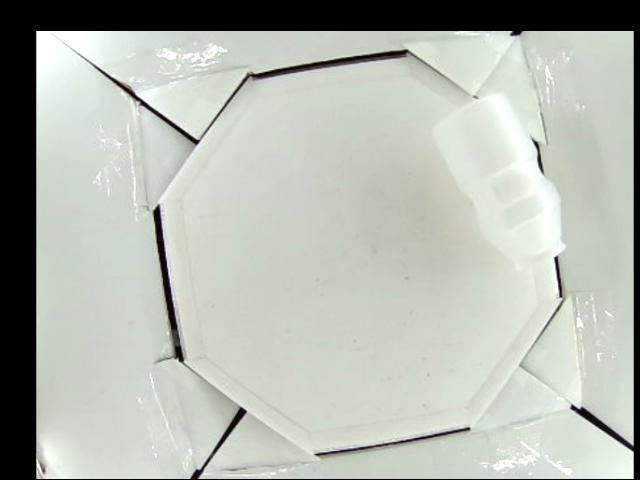Bottle: (423, 94, 569, 271)
